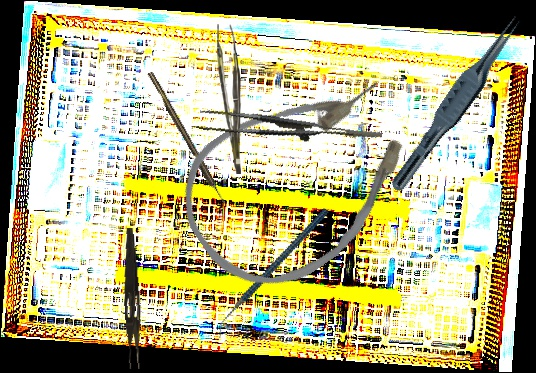Cannula: (157, 46, 445, 315)
Chopper: (187, 207, 358, 340)
Dressing Forceps: (119, 227, 145, 370)
Hook Surgical: (147, 70, 226, 206)
Tissue Forceps: (388, 7, 527, 201), (196, 91, 383, 170), (217, 24, 241, 174)
